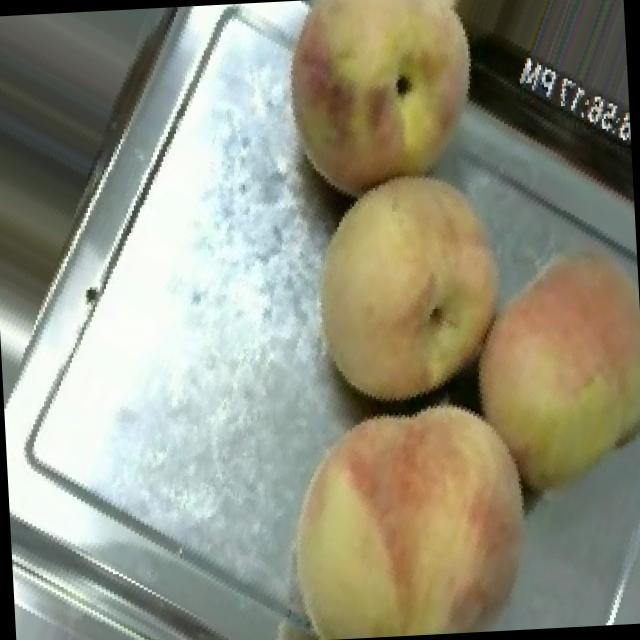Fruit: (249, 361, 578, 640), (277, 130, 554, 445), (427, 204, 640, 529), (251, 0, 518, 224)
